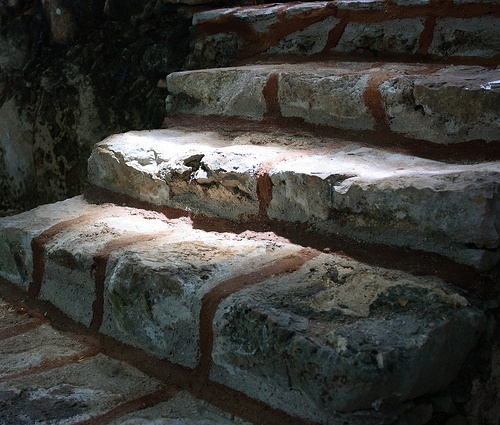stairs_up: (1, 59, 495, 398)
